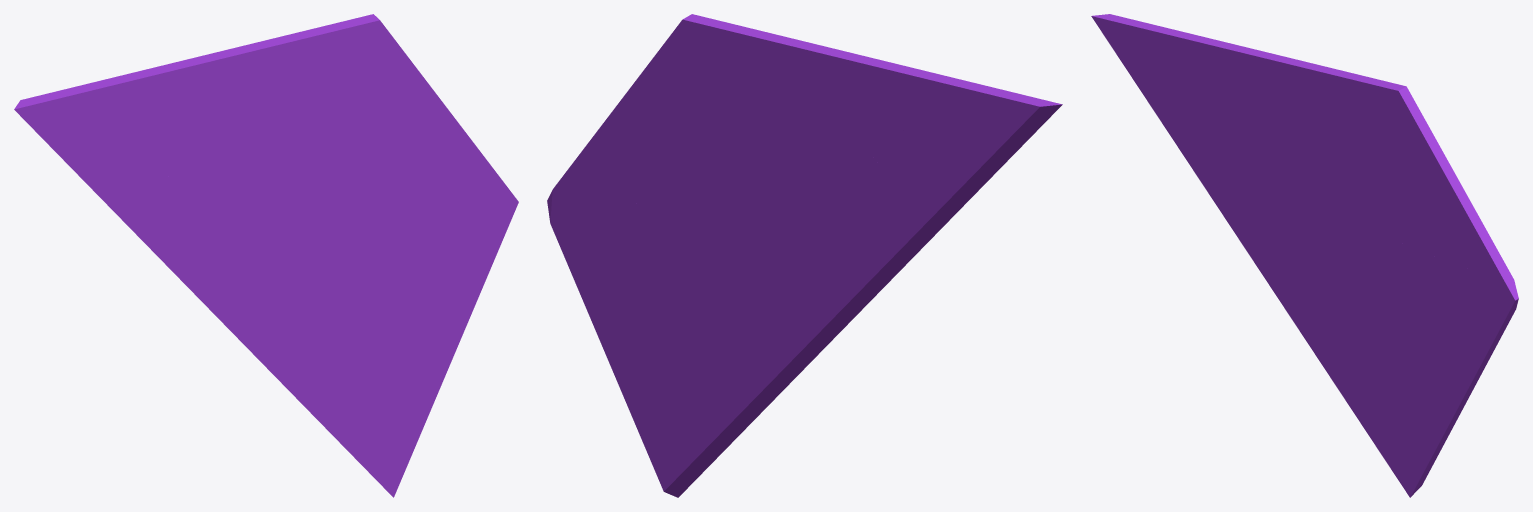
The model's file is Window_40_3_chunks.fbx.
The picture shows the model from 3 angles, left to right: view 1: azimuth 30°, elevation 25°; view 2: azimuth 150°, elevation 25°; view 3: azimuth 330°, elevation 25°; orthographic projection. The views are drawn at different scales.
Visible parts, largest first — view 1: Window_40_3_3, Window_40_3_1, Window_40_3_7, Window_40_3_8, Window_40_3_14, Window_40_3_4, Window_40_3_12, Window_40_3_5, Window_40_3_11, Window_40_3_10, Window_40_3_9, Window_40_3_13; view 2: Window_40_3_3, Window_40_3_1, Window_40_3_7, Window_40_3_8, Window_40_3_12, Window_40_3_5, Window_40_3_11, Window_40_3_10, Window_40_3_14, Window_40_3_4, Window_40_3_0, Window_40_3_2 (+3 smaller); view 3: Window_40_3_3, Window_40_3_1, Window_40_3_7, Window_40_3_8, Window_40_3_14, Window_40_3_4, Window_40_3_5, Window_40_3_12, Window_40_3_11, Window_40_3_10, Window_40_3_9, Window_40_3_13.
Boxes of the visible parts, left/top/right/bottom form: Window_40_3_3: left=269, top=274, right=456, bottom=497; Window_40_3_1: left=289, top=14, right=506, bottom=201; Window_40_3_7: left=163, top=199, right=342, bottom=369; Window_40_3_8: left=257, top=34, right=365, bottom=241; Window_40_3_14: left=138, top=43, right=270, bottom=169; Window_40_3_4: left=324, top=189, right=479, bottom=274; Window_40_3_12: left=14, top=69, right=150, bottom=167; Window_40_3_5: left=424, top=186, right=518, bottom=349; Window_40_3_11: left=194, top=41, right=275, bottom=211; Window_40_3_10: left=71, top=167, right=172, bottom=261; Window_40_3_9: left=165, top=165, right=237, bottom=259; Window_40_3_13: left=73, top=135, right=185, bottom=177; Window_40_3_3: left=607, top=281, right=804, bottom=497; Window_40_3_1: left=551, top=14, right=773, bottom=207; Window_40_3_7: left=727, top=207, right=911, bottom=368; Window_40_3_8: left=702, top=34, right=810, bottom=245; Window_40_3_12: left=911, top=70, right=1062, bottom=163; Window_40_3_5: left=547, top=192, right=639, bottom=358; Window_40_3_11: left=794, top=39, right=882, bottom=220; Window_40_3_10: left=874, top=162, right=1004, bottom=258; Window_40_3_14: left=802, top=41, right=923, bottom=154; Window_40_3_4: left=594, top=198, right=701, bottom=250; Window_40_3_0: left=678, top=201, right=790, bottom=369; Window_40_3_2: left=629, top=245, right=727, bottom=284; Window_40_3_3: left=1305, top=282, right=1468, bottom=497; Window_40_3_1: left=1331, top=69, right=1515, bottom=283; Window_40_3_7: left=1216, top=190, right=1366, bottom=338; Window_40_3_8: left=1295, top=64, right=1386, bottom=261; Window_40_3_14: left=1195, top=40, right=1306, bottom=137; Window_40_3_4: left=1352, top=238, right=1482, bottom=322; Window_40_3_5: left=1436, top=274, right=1518, bottom=398; Window_40_3_12: left=1091, top=14, right=1216, bottom=89; Window_40_3_11: left=1243, top=62, right=1313, bottom=193; Window_40_3_10: left=1139, top=88, right=1224, bottom=204; Window_40_3_9: left=1218, top=136, right=1278, bottom=204; Window_40_3_13: left=1141, top=88, right=1235, bottom=137.
Size of the model in its own units: 992 by 902 by 27.2.
